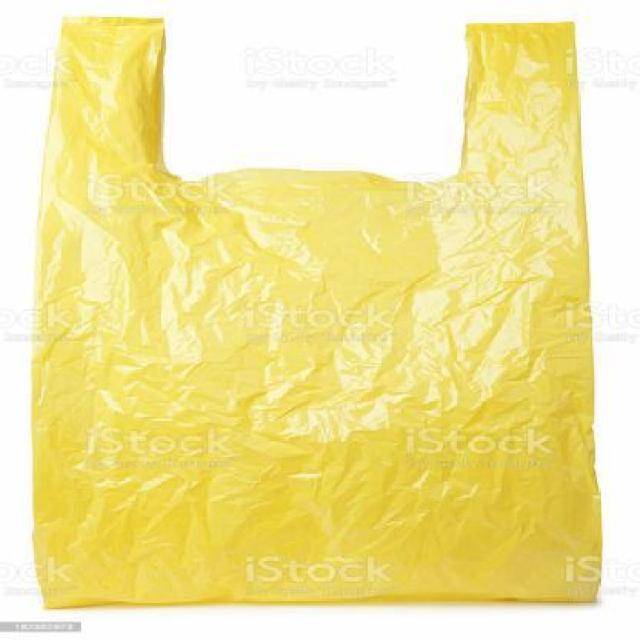plastic bag: (17, 14, 608, 615)
